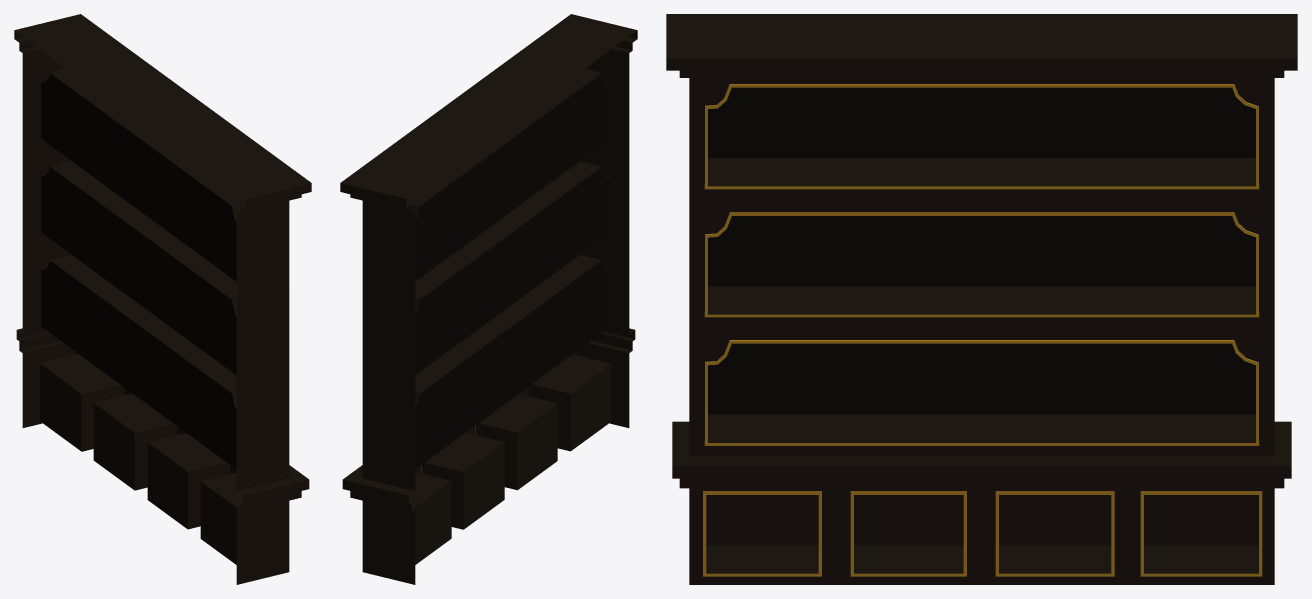
Rendered from SM_Biblioteque_001.fbx.
The picture shows the model from 3 angles, left to right: view 1: azimuth 30°, elevation 25°; view 2: azimuth 150°, elevation 25°; view 3: azimuth 270°, elevation 25°; orthographic projection. The views are drawn at different scales.
Parts seen in each view (by area): view 1: SM_Bookcase_Blockout_001; view 2: SM_Bookcase_Blockout_001; view 3: SM_Bookcase_Blockout_001.
Part boxes in pixels (x1=…): SM_Bookcase_Blockout_001: x1=14, y1=14, x2=311, y2=584; SM_Bookcase_Blockout_001: x1=340, y1=14, x2=637, y2=584; SM_Bookcase_Blockout_001: x1=666, y1=14, x2=1297, y2=584.
Size of the model in its own units: 52.07 by 294 by 313.
